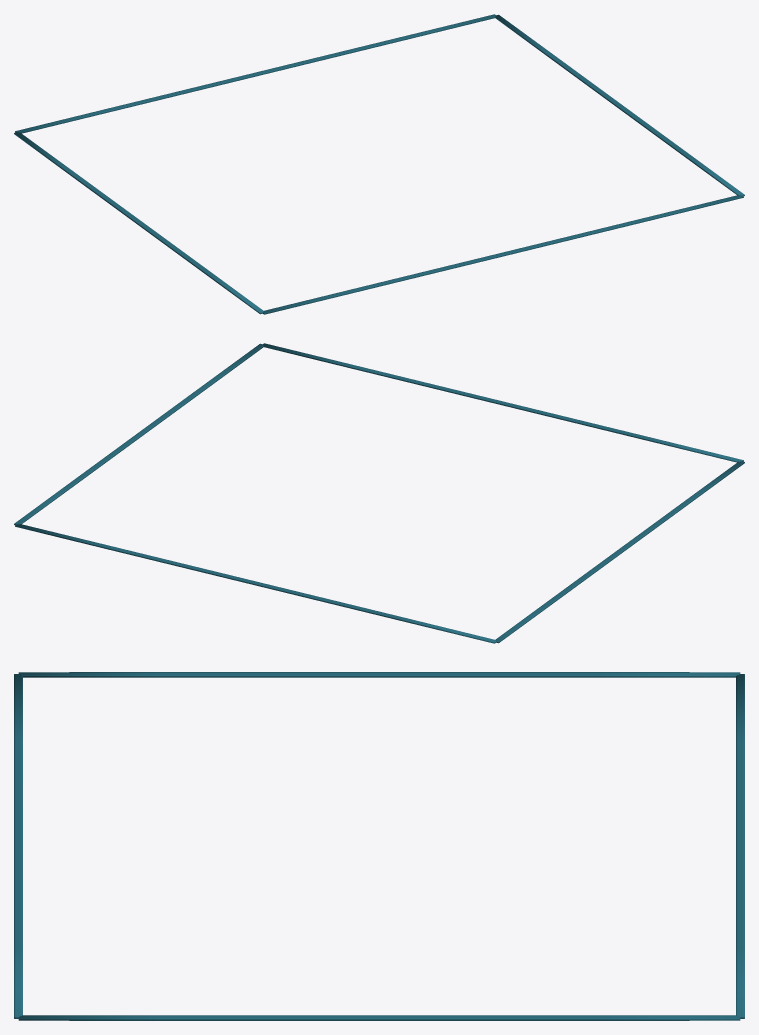
Rendered from laboratorio-zona.glb.
3 renders of one model, top to bottom at view 1: azimuth 30°, elevation 25°; view 2: azimuth 150°, elevation 25°; view 3: azimuth 270°, elevation 25°, orthographic. The views are drawn at different scales.
Parts seen in each view (by area): view 1: Petroleo; view 2: Petroleo; view 3: Petroleo.
Part boxes in pixels (<box>): Petroleo: <box>14,14,744,314</box>; Petroleo: <box>14,343,744,643</box>; Petroleo: <box>14,672,744,1020</box>.
Size of the model in its own units: 9.1 by 0.025 by 8.1.
